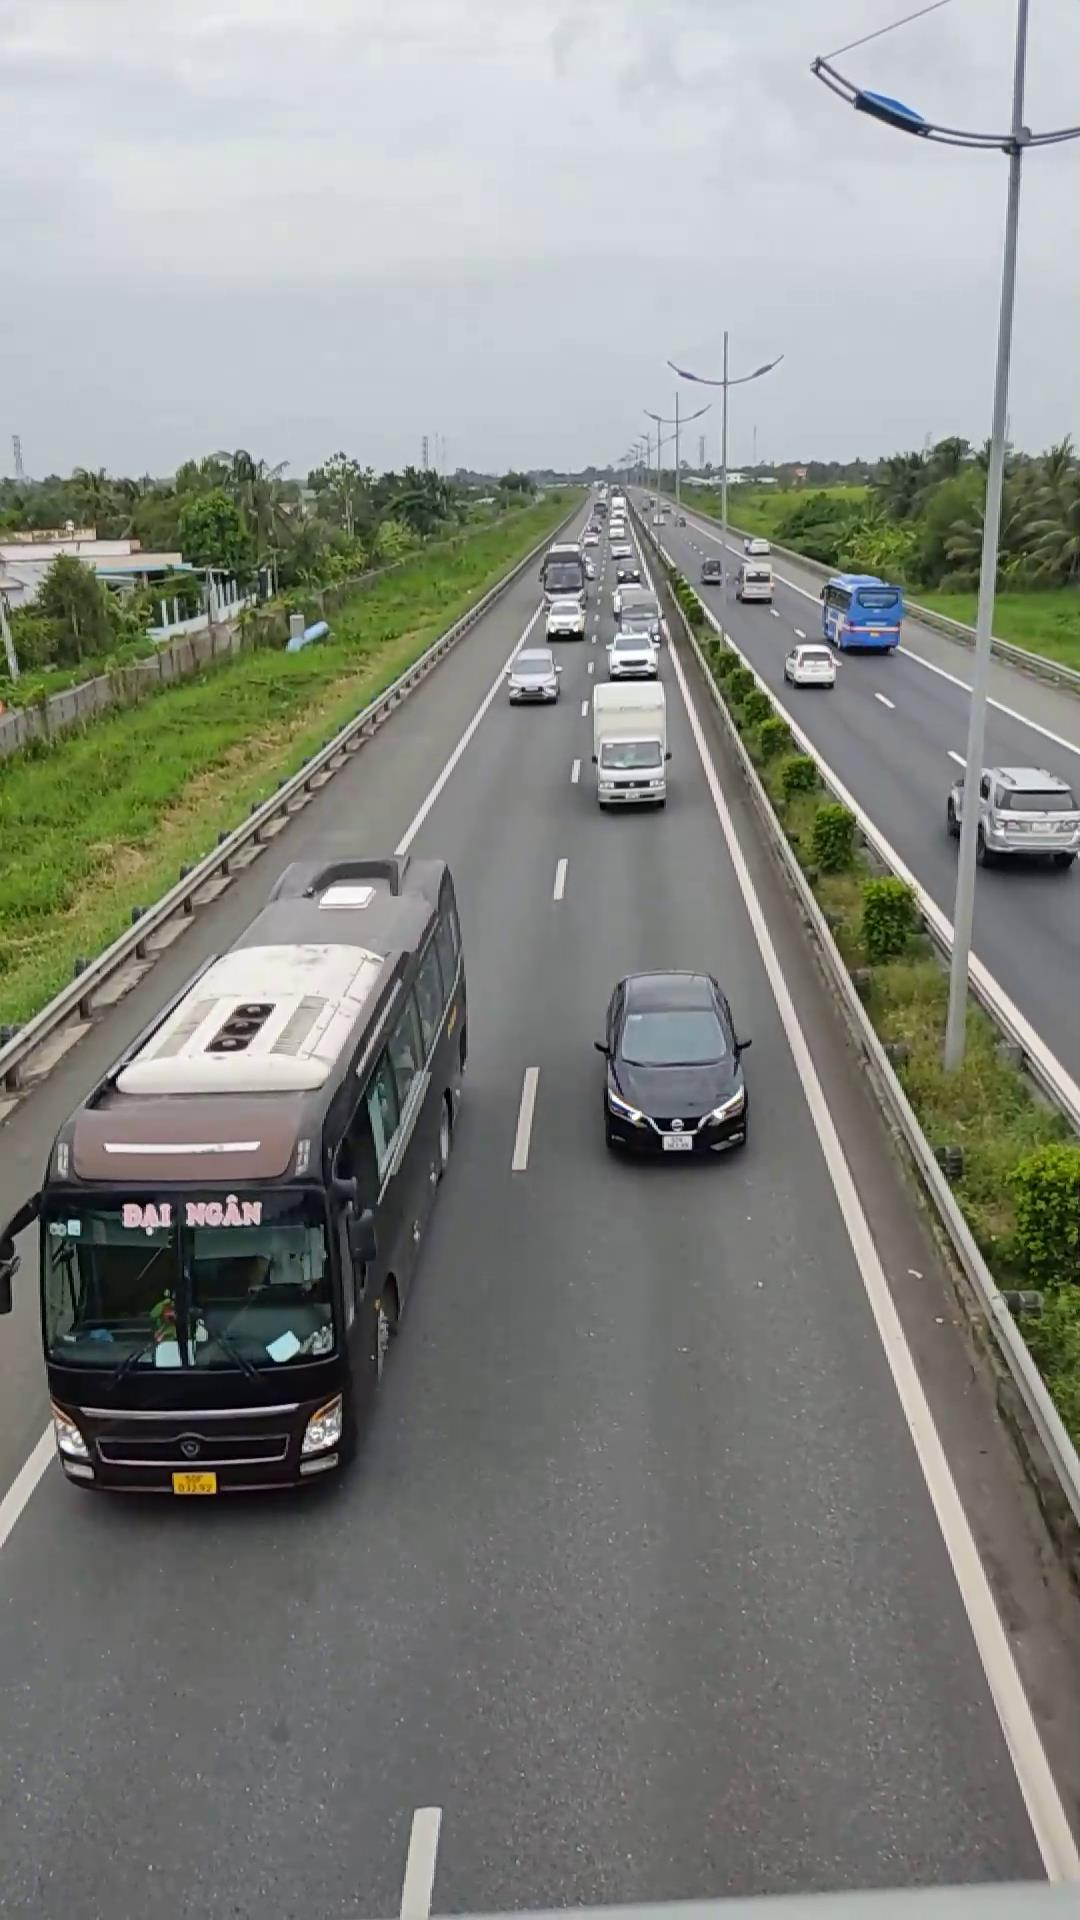bus: (16, 848, 463, 1499)
car: (592, 970, 751, 1161), (944, 696, 1078, 868)
truck: (583, 664, 674, 808)
